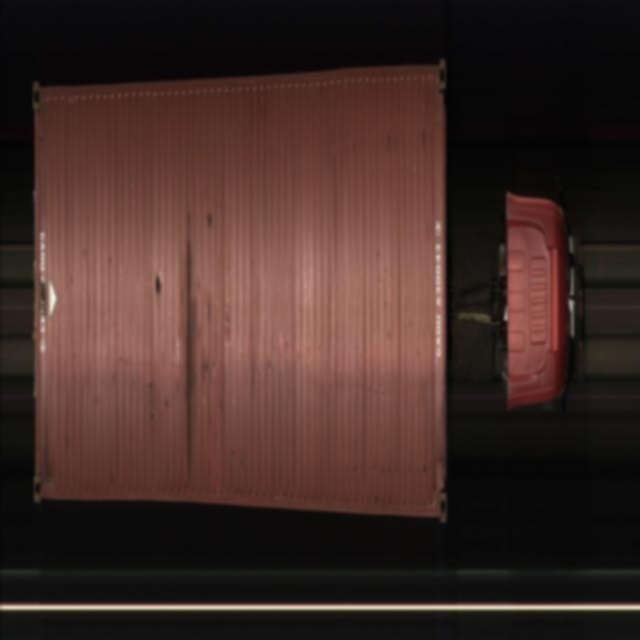Rusty: (182, 208, 197, 497), (39, 269, 48, 327), (155, 274, 163, 300), (208, 206, 214, 238)
